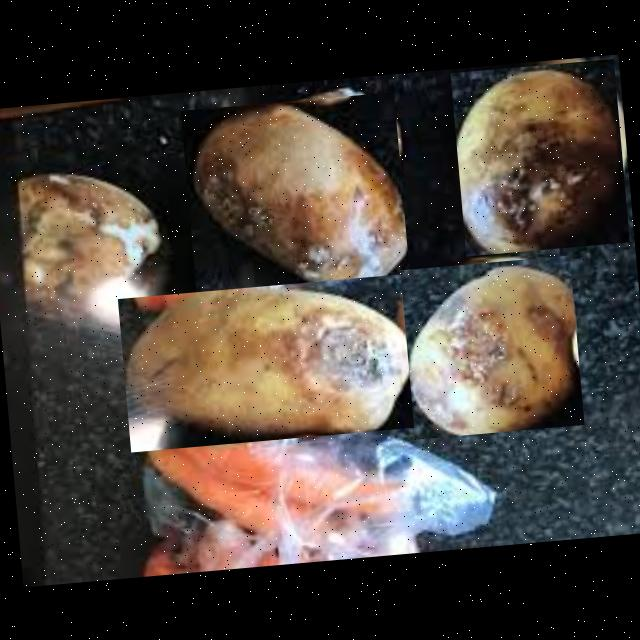Damaged potato: (3, 152, 171, 352)
Diseased-fungal potato: (116, 273, 414, 451), (180, 91, 408, 295), (448, 57, 628, 256), (399, 254, 583, 438)
